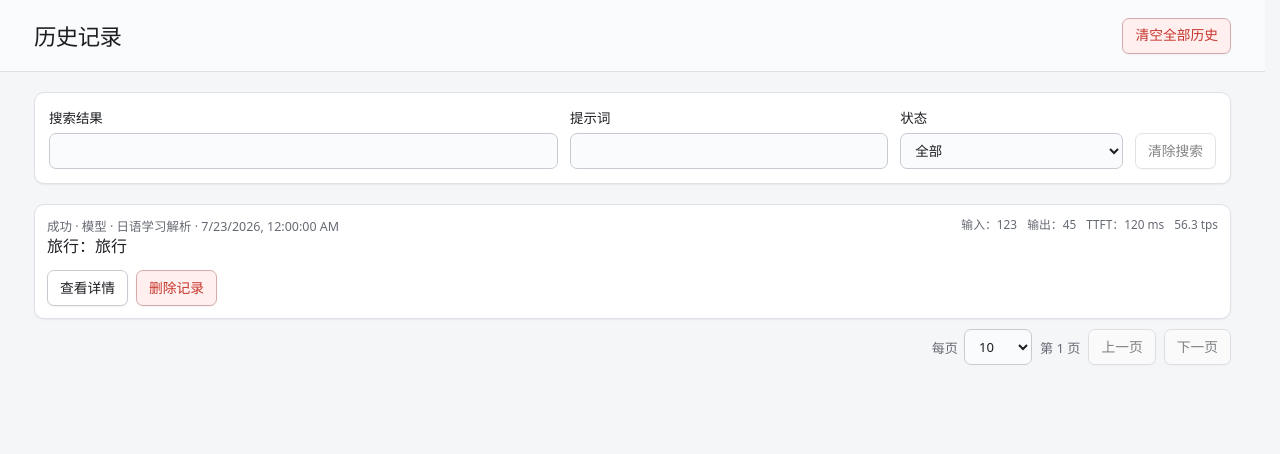
Test case: History › keeps the list available when detail loading fails
Check: the text "旅行：旅行" is shown, box [47,235,127,257]
Click the button "查看详情" at (88, 288), box [47,270,128,306]
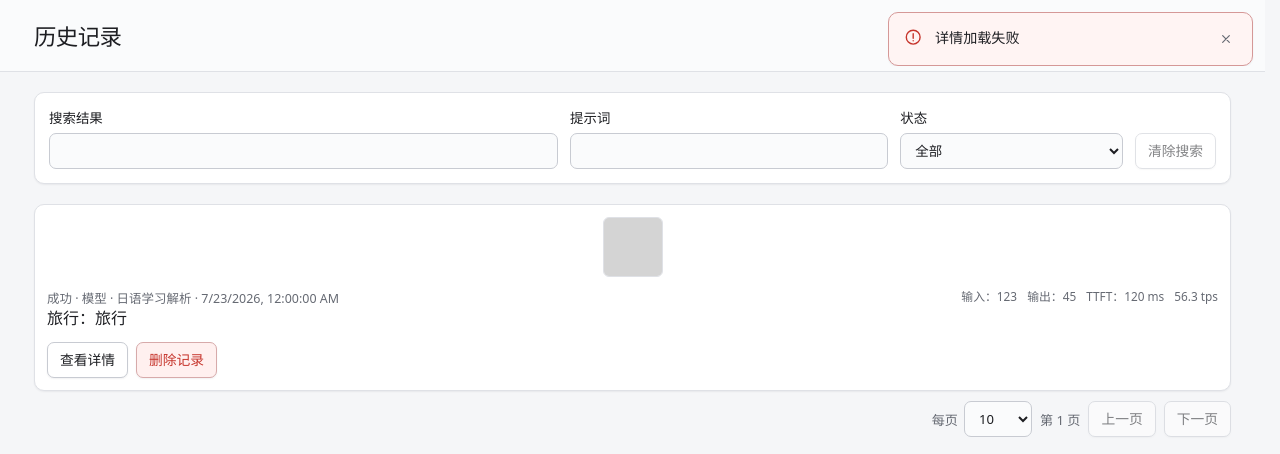
Check: the field labelled "搜索结果" is shown, box [49,133,558,169]
Check: the text "详情加载失败" is shown, box [935,28,1020,47]
